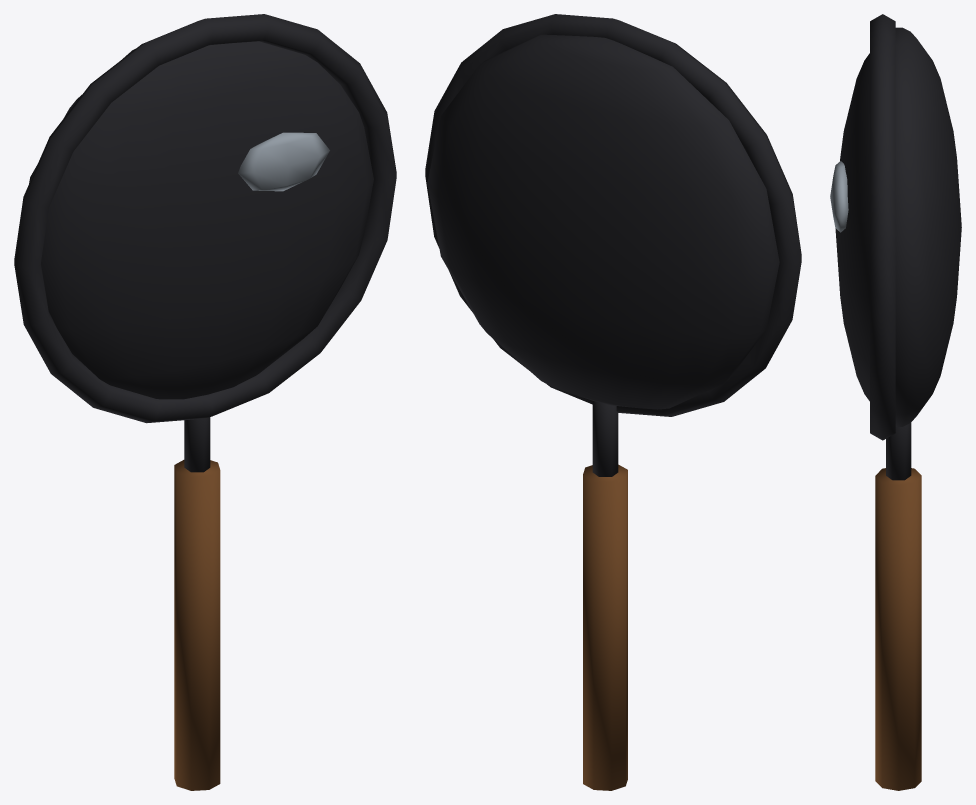
The model's file is weapon_wajan.glb.
The picture shows the model from 3 angles, left to right: view 1: azimuth 30°, elevation 25°; view 2: azimuth 150°, elevation 25°; view 3: azimuth 270°, elevation 25°; orthographic projection. The views are drawn at different scales.
Visible parts, largest first — view 1: pickup_wajan; view 2: pickup_wajan; view 3: pickup_wajan.
Part boxes in pixels (x1,y1,x2,y2): pickup_wajan: (14,14,396,790); pickup_wajan: (425,14,801,790); pickup_wajan: (830,14,961,790).
Bounding box in the file's own units: 0.408 × 0.784 × 0.125.
